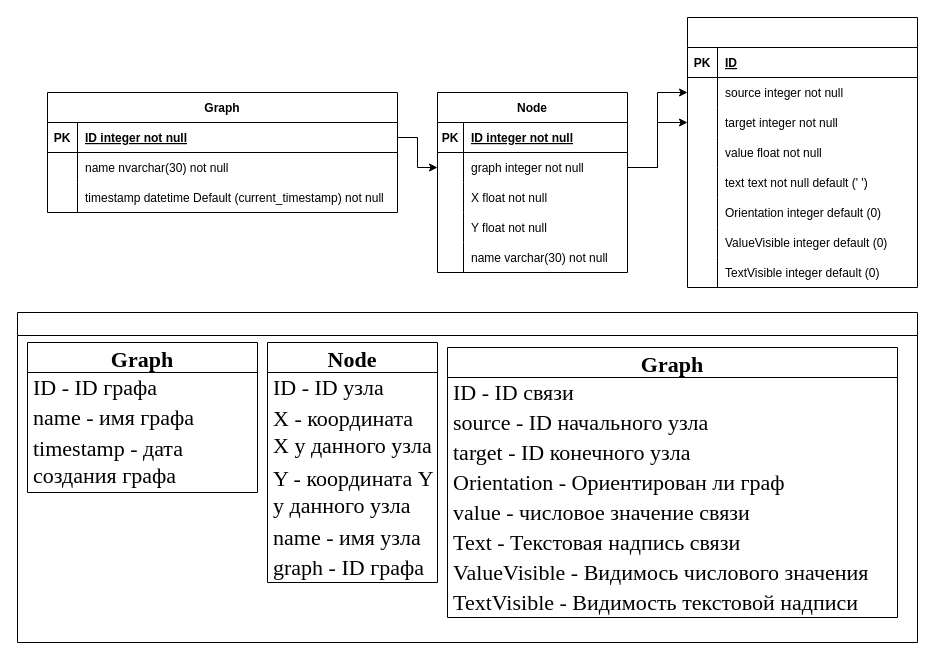
Image size: 935x660. Some labels were removed from this diagram. Each missing label, with the box of its shape:
Link: (686, 16, 918, 288)
Словарь данных: (16, 312, 918, 642)
